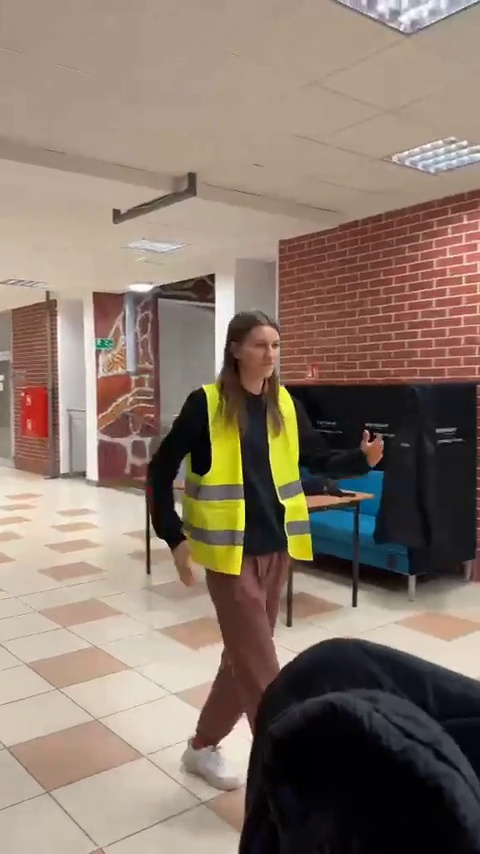vest: (133, 310, 384, 782)
